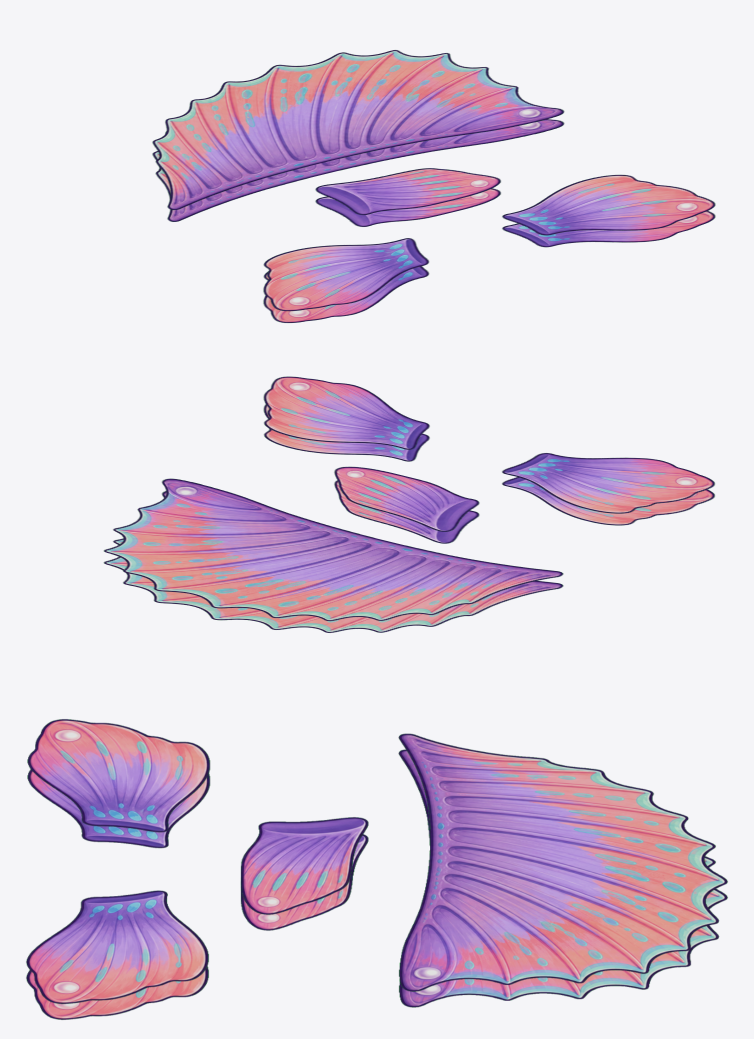
File: fish_fins.glb
The picture shows the model from 3 angles, top to bottom: view 1: azimuth 30°, elevation 25°; view 2: azimuth 150°, elevation 25°; view 3: azimuth 270°, elevation 25°; orthographic projection. The views are drawn at different scales.
Visible parts, largest first — view 1: fish_fins; view 2: fish_fins; view 3: fish_fins.
Boxes of the visible parts, box(x1,y1,x2,y2) form: fish_fins: box(152, 50, 715, 322); fish_fins: box(103, 376, 714, 632); fish_fins: box(26, 719, 727, 1019).
Size of the model in its own units: 2 by 0.05 by 2.08.
Materials: 1 (1 with a texture image).
